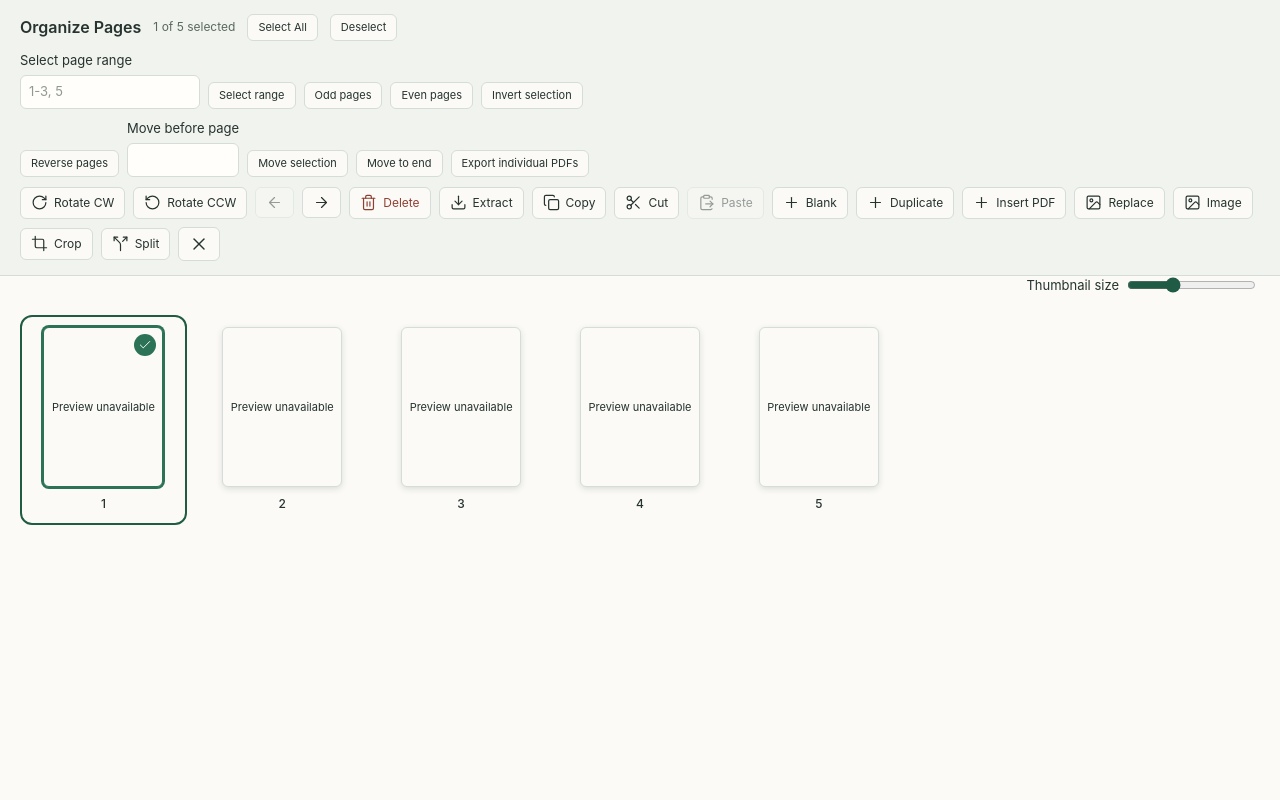
Scenario: page workflow controls › retains selection after an unsuccessful reorder
This screenshot has width=1280, height=800.
Click the button "Reverse pages". click: (69, 163)
box: [20, 150, 119, 176]
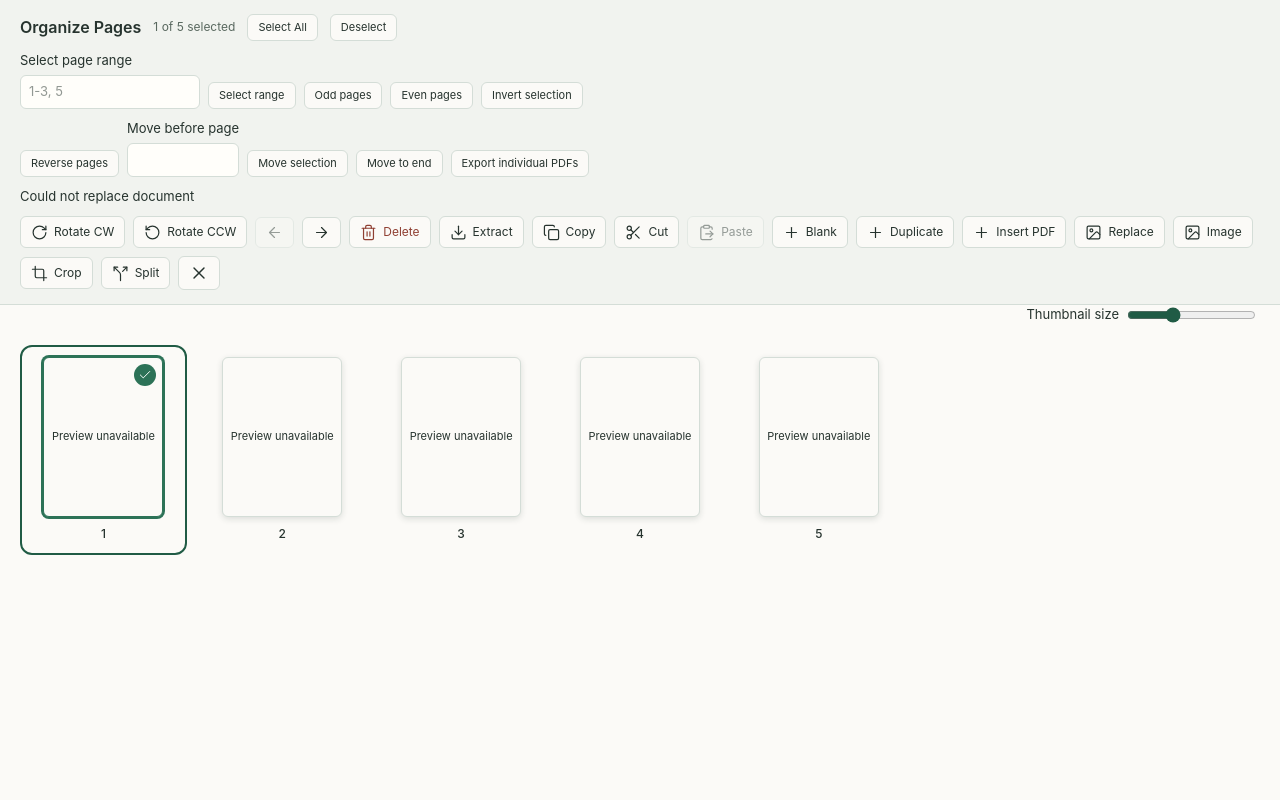
Result: the message shows "Could not replace" at [20, 188, 194, 204]
